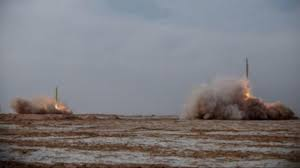ten_lua: (242, 49, 253, 85), (52, 86, 60, 103)
